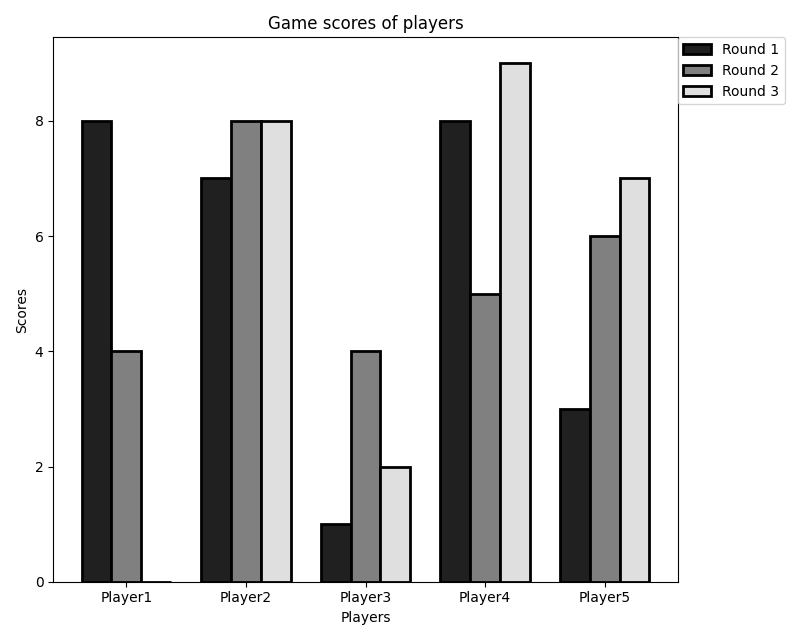canvas: (72, 58, 663, 584)
legend: (680, 40, 783, 100)
title: (262, 9, 471, 36)
x-axis: (47, 576, 688, 592)
x-labels: (97, 589, 642, 607)
x-title: (334, 607, 393, 629)
y-axis: (48, 31, 60, 587)
y-labels: (29, 88, 49, 596)
y-title: (12, 280, 32, 347)
